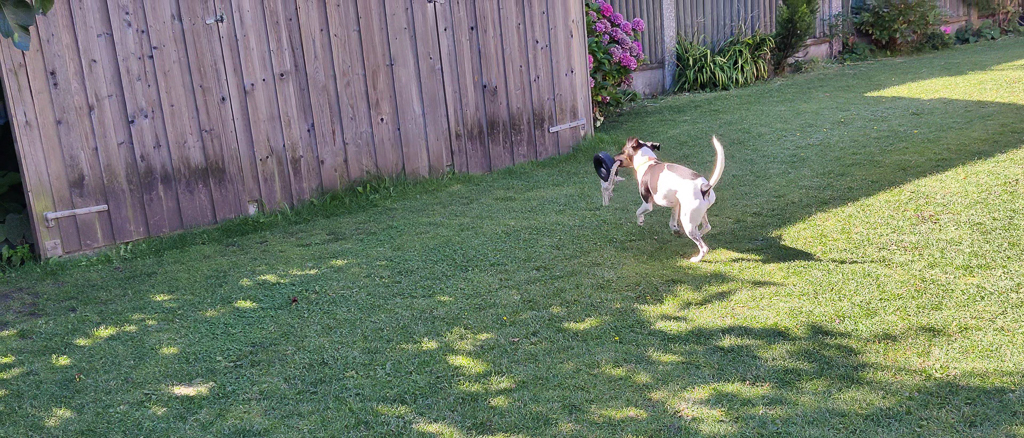Dog: (603, 114, 734, 274)
